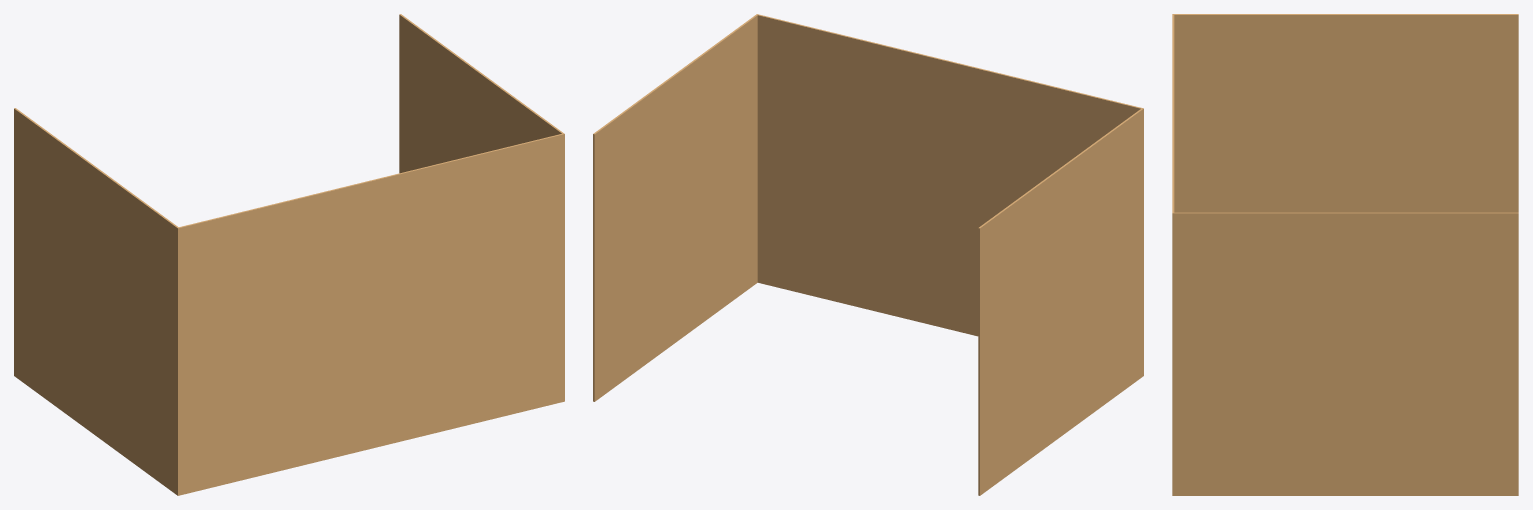
3 renders of one model, left to right at view 1: azimuth 30°, elevation 25°; view 2: azimuth 150°, elevation 25°; view 3: azimuth 270°, elevation 25°, orthographic. The views are drawn at different scales.
Visible parts, largest first — view 1: Generic Structure Piece (×3); view 2: Generic Structure Piece (×3); view 3: Generic Structure Piece (×3).
Boxes of the visible parts, left/top/right/bottom form: Generic Structure Piece (×3): left=14, top=14, right=564, bottom=495; Generic Structure Piece (×3): left=593, top=14, right=1143, bottom=495; Generic Structure Piece (×3): left=1172, top=14, right=1518, bottom=495.
Bounding box in the file's own units: 0.6921 × 0.4572 × 0.508.
